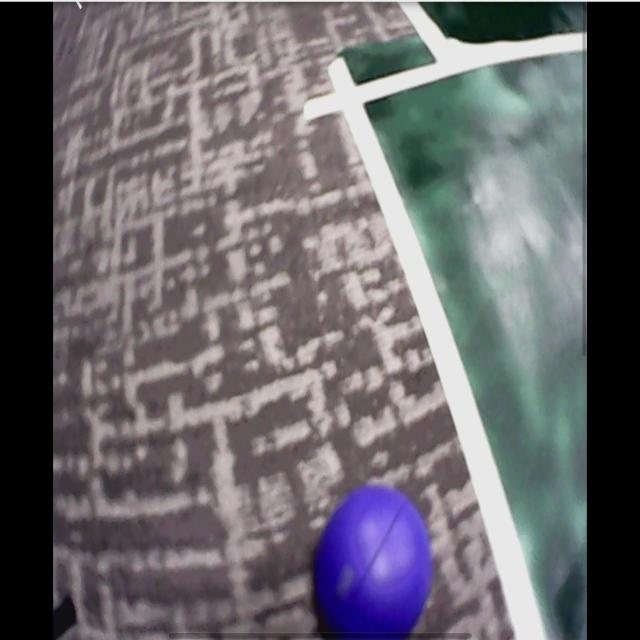ball: (313, 485, 430, 635)
